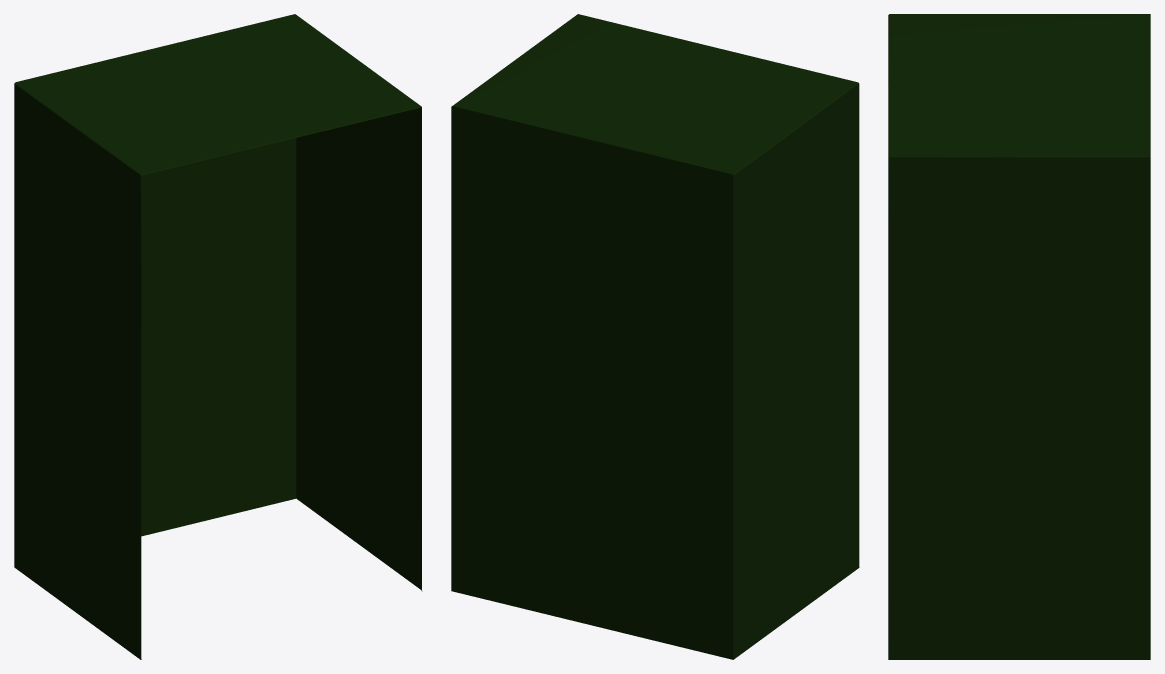
Rendered from Fridge_14_FridgeBodyMesh_0_6.obj.
The picture shows the model from 3 angles, left to right: view 1: azimuth 30°, elevation 25°; view 2: azimuth 150°, elevation 25°; view 3: azimuth 270°, elevation 25°; orthographic projection. The views are drawn at different scales.
Size of the model in its own units: 1.1 by 1.91 by 0.8512.
